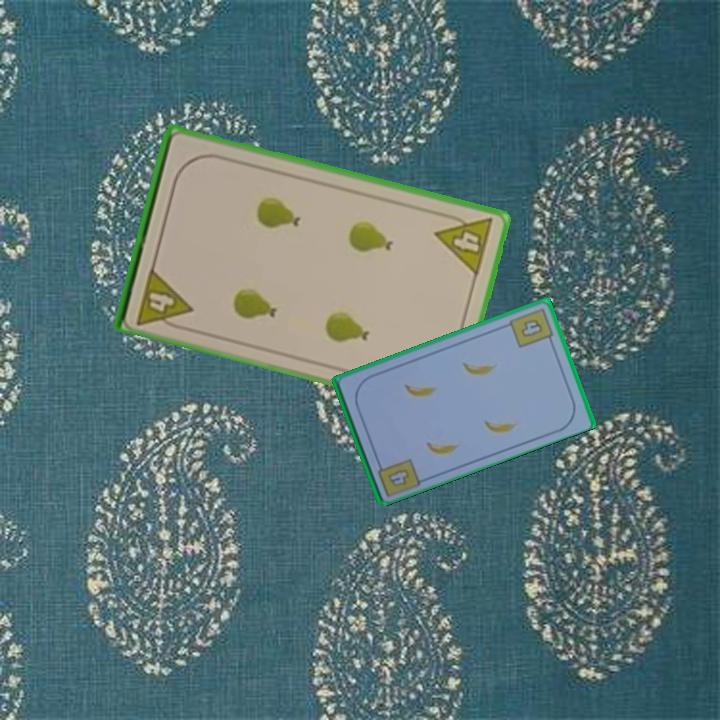4b: (506, 304, 556, 351), (384, 465, 413, 490)
4p: (431, 208, 497, 279), (133, 263, 195, 333)
